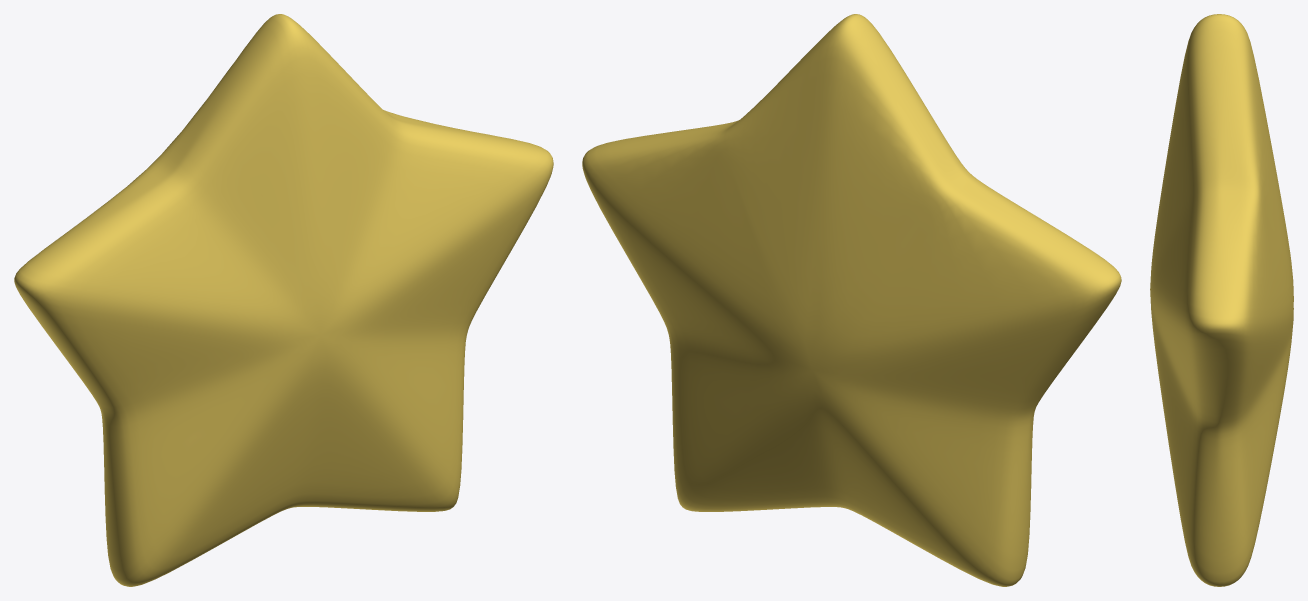
File: Star.fbx
3 renders of one model, left to right at view 1: azimuth 30°, elevation 25°; view 2: azimuth 150°, elevation 25°; view 3: azimuth 270°, elevation 25°, orthographic. The views are drawn at different scales.
Parts seen in each view (by area): view 1: Star; view 2: Star; view 3: Star.
Boxes of the visible parts, x1,y1,x2,y2 form: Star: [14, 14, 553, 586]; Star: [582, 14, 1121, 586]; Star: [1150, 14, 1293, 586].
Bounding box in the file's own units: 184 × 175 × 45.73.
